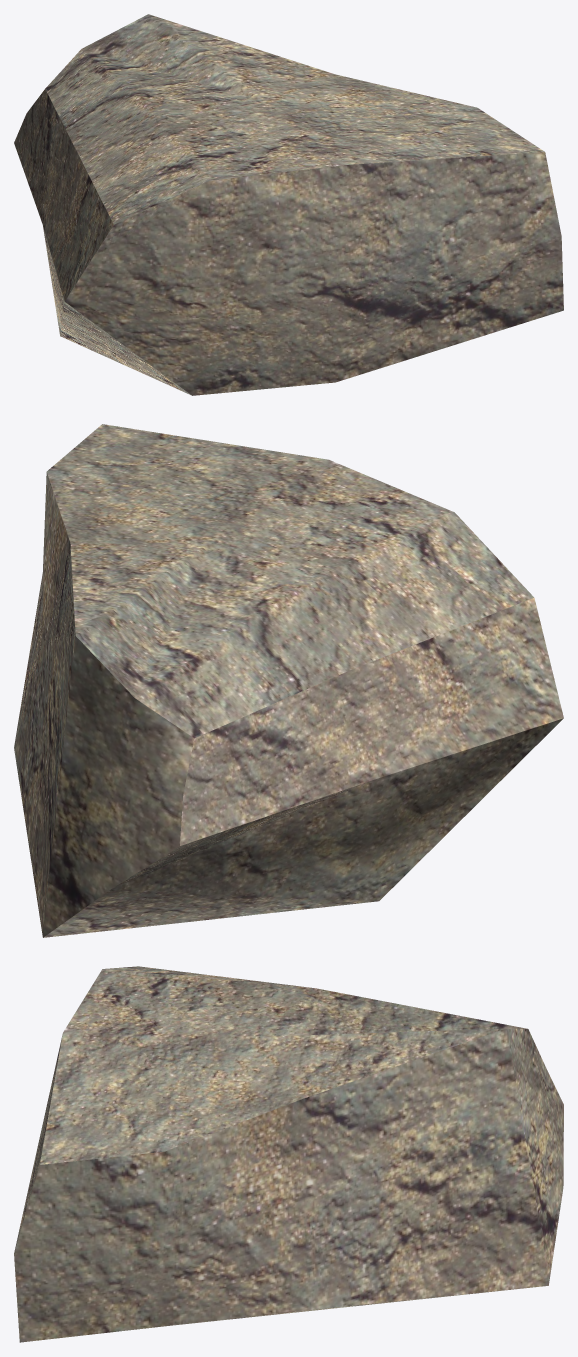
Rendered from rock_01.fbx.
3 renders of one model, top to bottom at view 1: azimuth 30°, elevation 25°; view 2: azimuth 150°, elevation 25°; view 3: azimuth 270°, elevation 25°, orthographic. The views are drawn at different scales.
Visible parts, largest first — view 1: rock01; view 2: rock01; view 3: rock01.
Boxes of the visible parts, left/top/right/bottom form: rock01: left=14, top=14, right=563, bottom=395; rock01: left=14, top=424, right=563, bottom=937; rock01: left=14, top=966, right=563, bottom=1342.
Bounding box in the file's own units: 4.08 × 2.05 × 4.02.
1 material, 1 textured.
